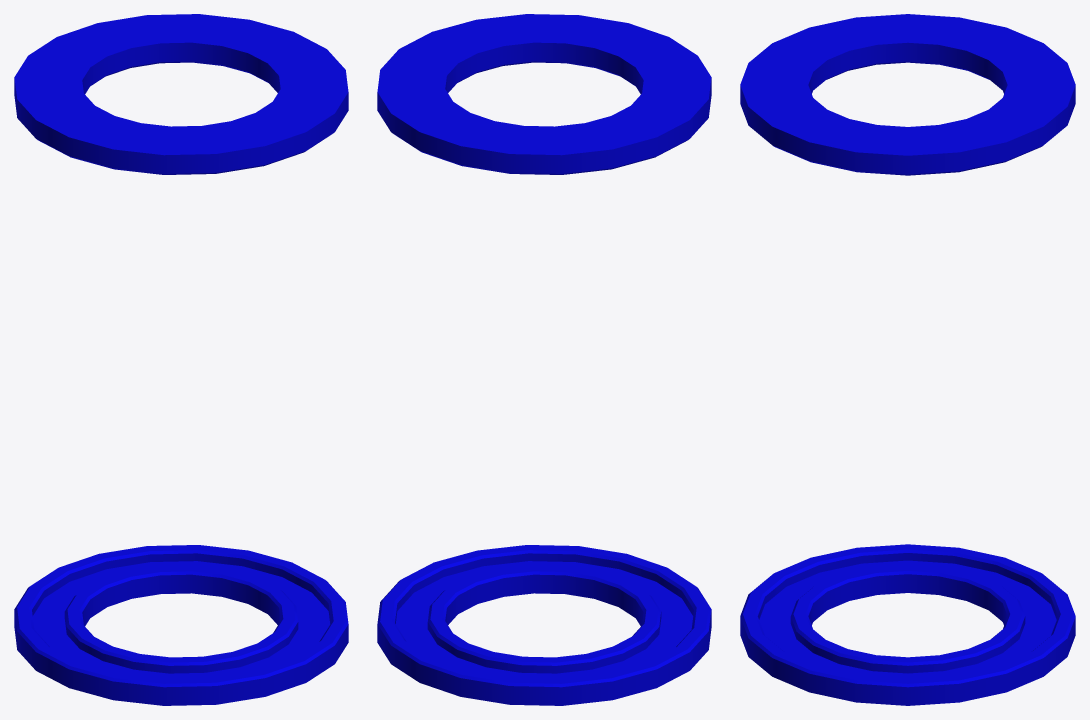
Rendered from closetLid.fbx.
The picture shows the model from 3 angles, left to right: view 1: azimuth 30°, elevation 25°; view 2: azimuth 150°, elevation 25°; view 3: azimuth 270°, elevation 25°; orthographic projection.
Parts seen in each view (by area): view 1: doorSliderTop, doorSliderBottom; view 2: doorSliderTop, doorSliderBottom; view 3: doorSliderTop, doorSliderBottom.
Boxes of the visible parts, bbox=[...] form: doorSliderTop: bbox=[14, 14, 348, 174]; doorSliderBottom: bbox=[14, 545, 348, 705]; doorSliderTop: bbox=[377, 14, 711, 174]; doorSliderBottom: bbox=[377, 545, 711, 705]; doorSliderTop: bbox=[740, 14, 1075, 175]; doorSliderBottom: bbox=[740, 544, 1075, 705].
Size of the model in its own units: 119 by 216 by 119.
